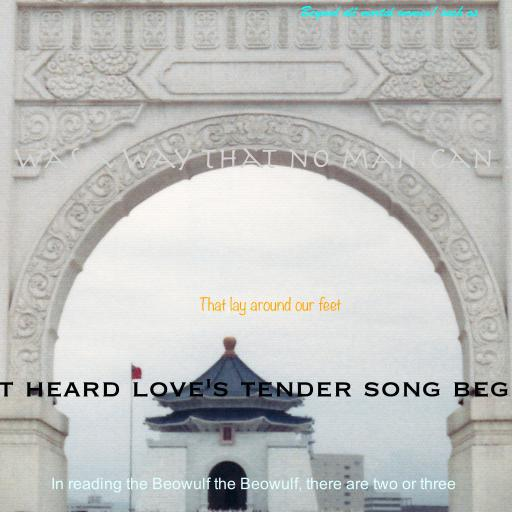Arial: (50, 477, 456, 493)
Brush Script MT: (300, 5, 478, 20)
Copperplate: (0, 379, 512, 397)
Herculanum: (0, 147, 512, 171)
Noteworthy: (199, 296, 341, 316)
